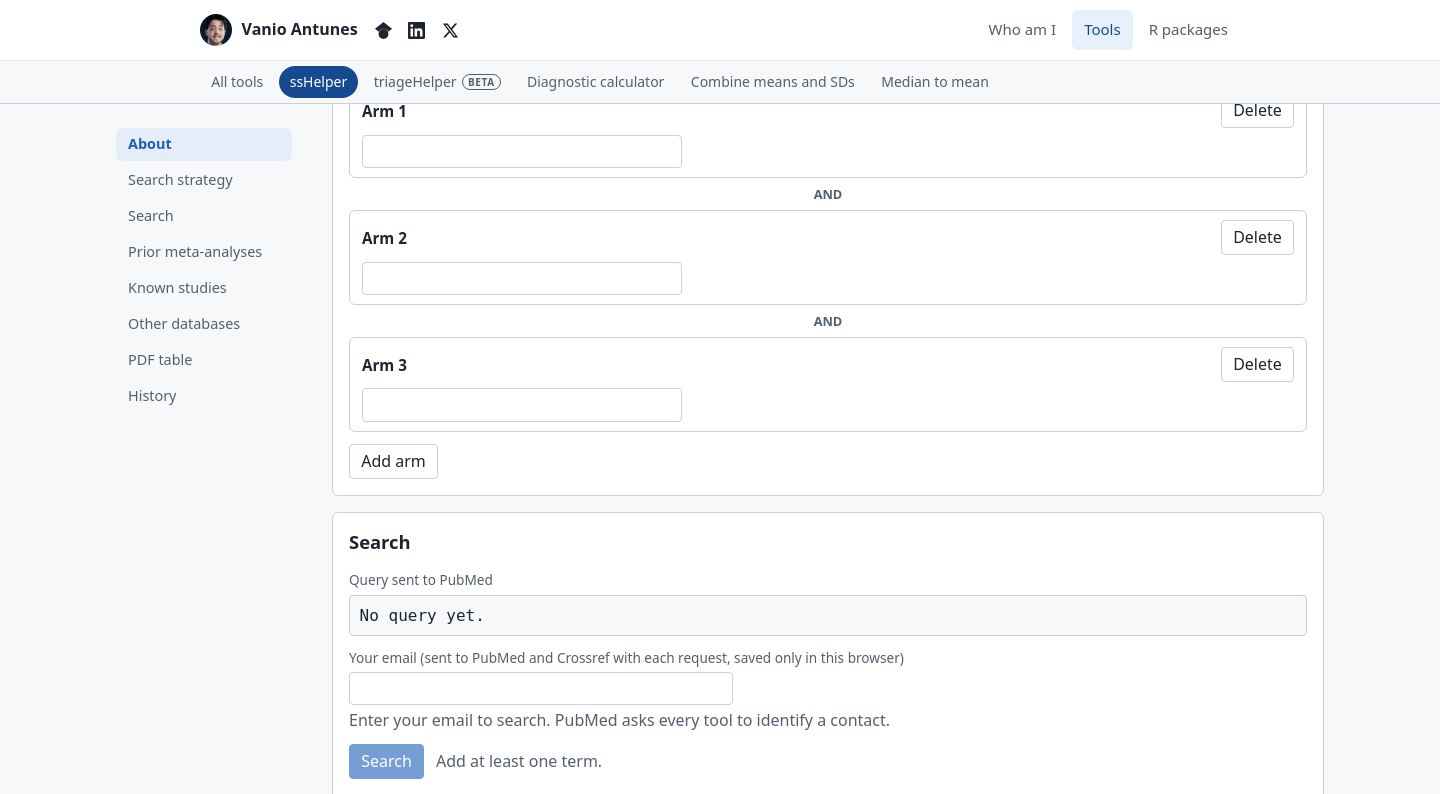
it: Arms editor (contracts/ui.md) › Add arm appends an empty arm with an AND before it
(page scrolled)
Click the button "Add arm" at (394, 462), box x1=349 y1=444 x2=438 y2=479
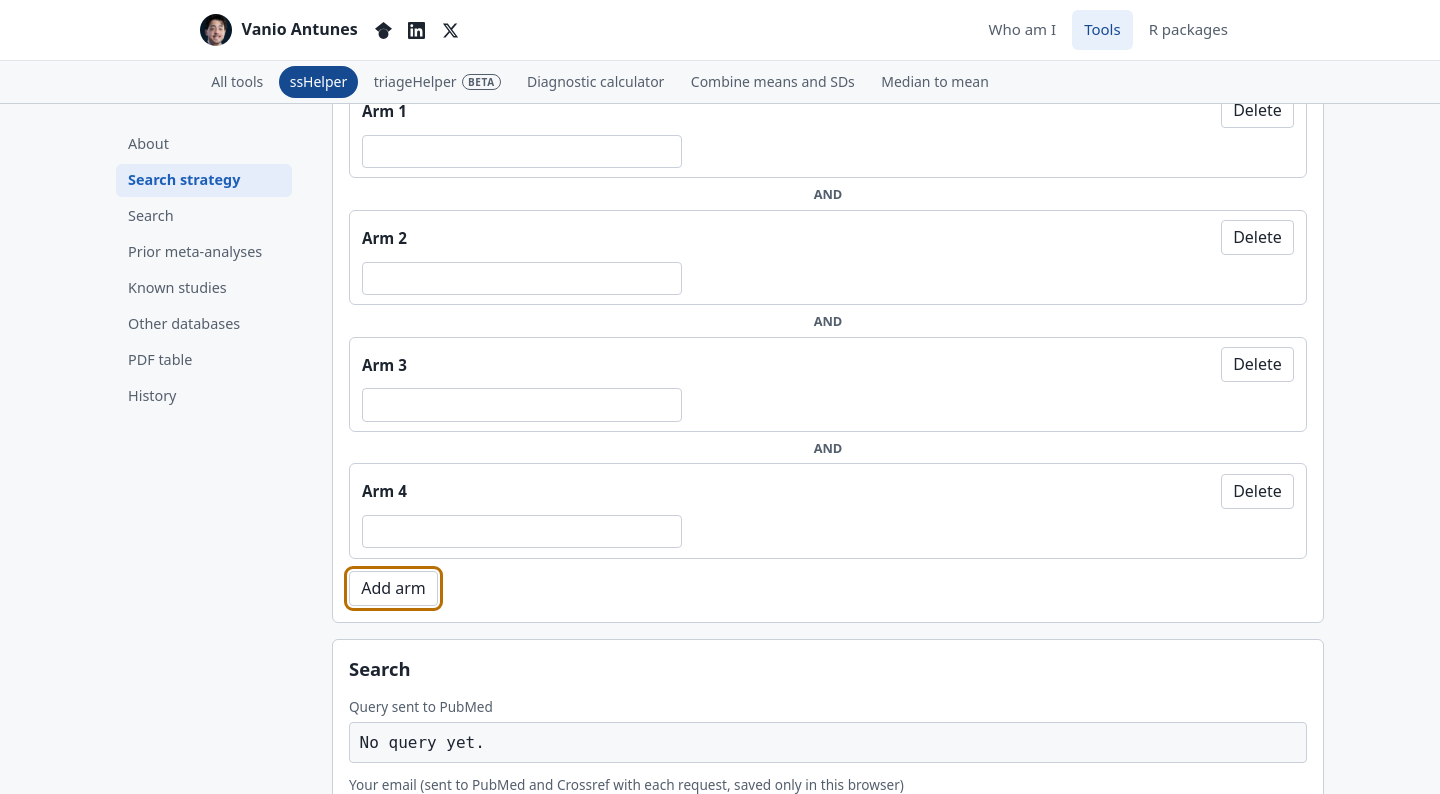
Result: the number of elements "Arm 1 Delete" is 4 at x1=349 y1=83 x2=1307 y2=178; x1=349 y1=210 x2=1307 y2=305; x1=349 y1=337 x2=1307 y2=432; x1=349 y1=464 x2=1307 y2=559
Result: the text "AND" is shown 3 times at x1=814 y1=185 x2=842 y2=203; x1=814 y1=312 x2=842 y2=330; x1=814 y1=438 x2=842 y2=456
Result: the element "Arm 4" is shown at x1=349 y1=464 x2=1307 y2=559
